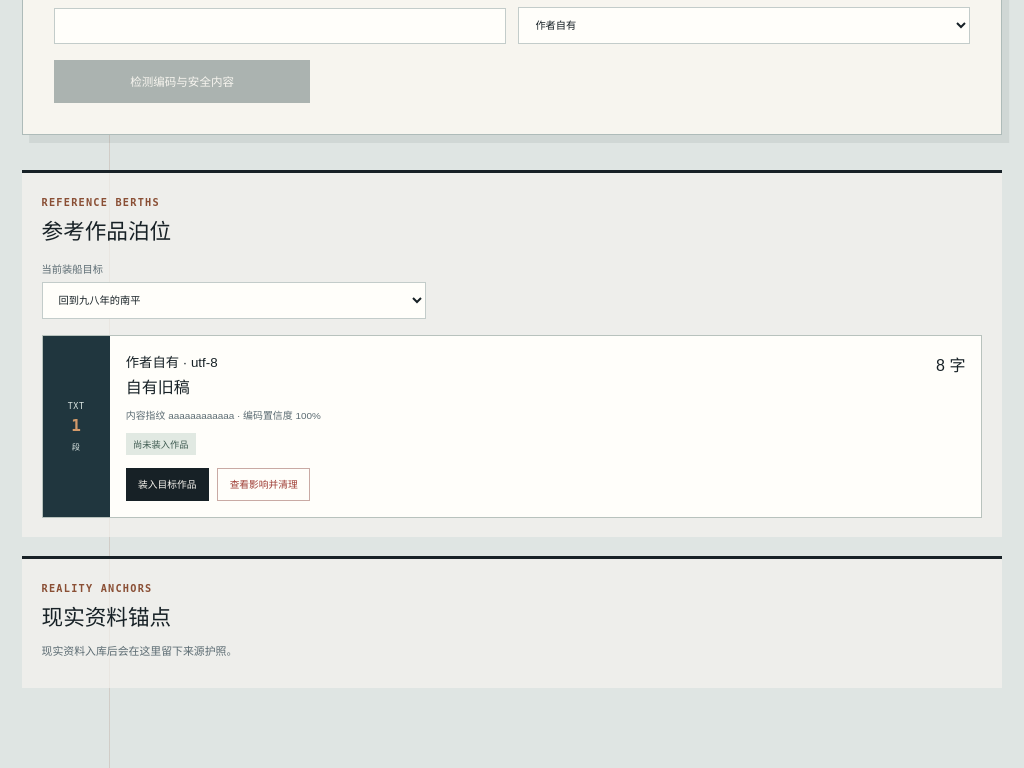
GlobalReferenceLibraryPage › links and unlinks one global reference work without deleting its raw asset
(page scrolled)
Click the button "装入目标作品": [167, 484] box [126,468,209,501]
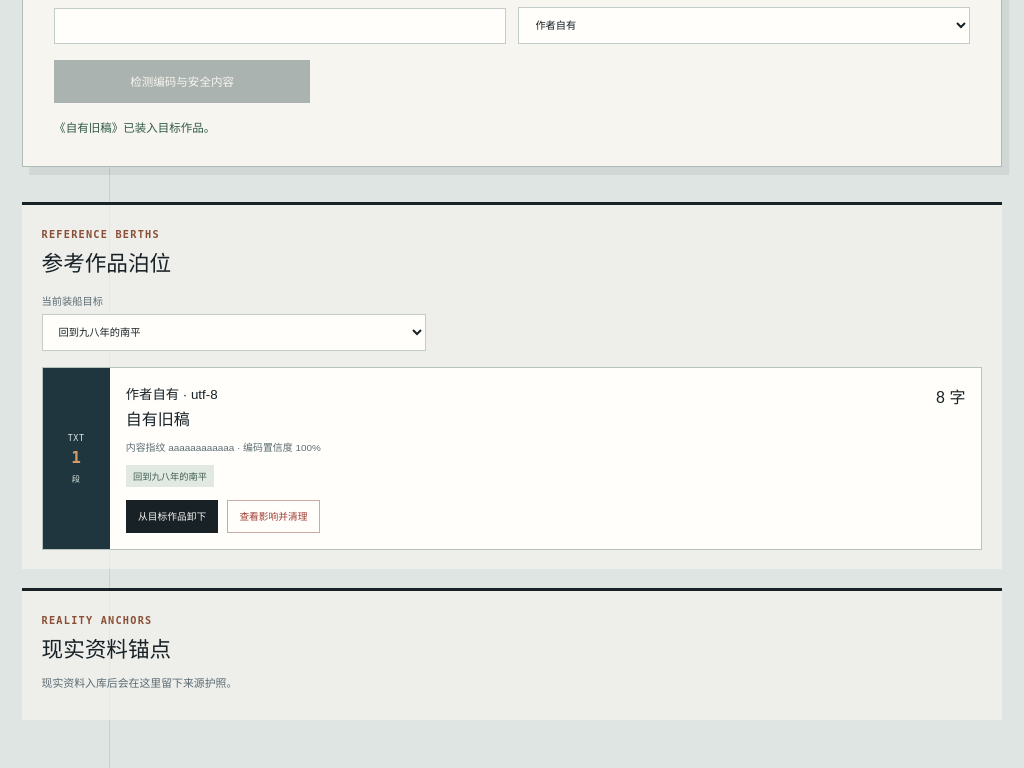
Check: the button "从目标作品卸下" is shown
Click the button "从目标作品卸下": [172, 516] box [126,500,218,533]
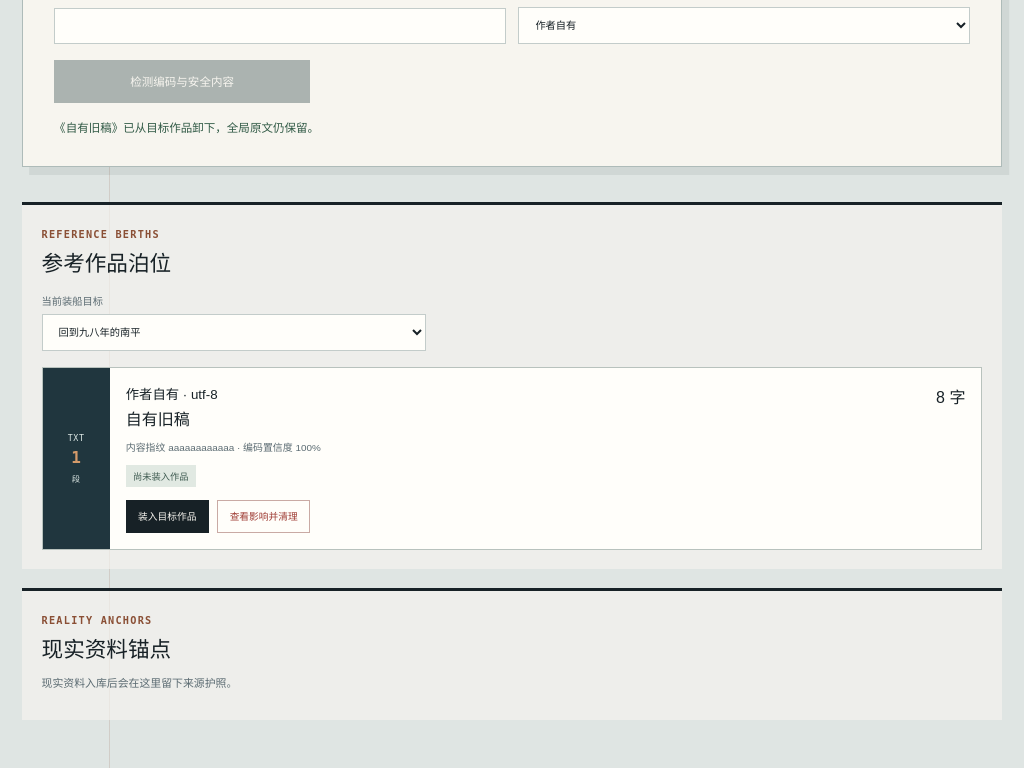
Check: the text "尚未装入作品" is shown, box [126,465,196,487]
